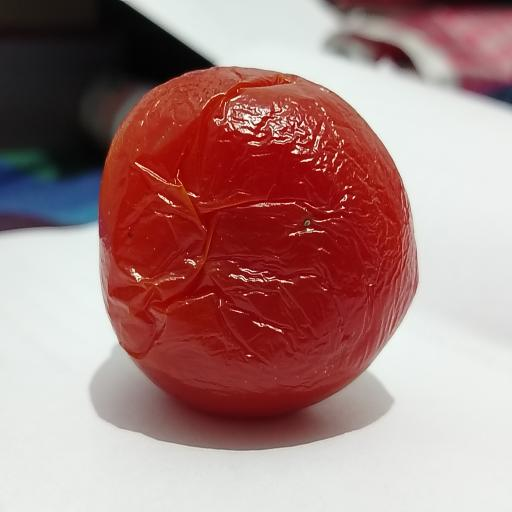spoiled: (99, 67, 418, 416)
